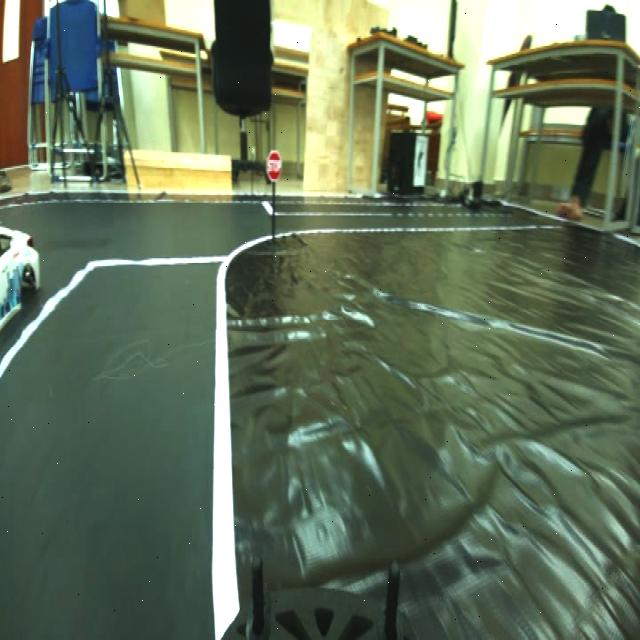stop: (260, 146, 284, 180)
